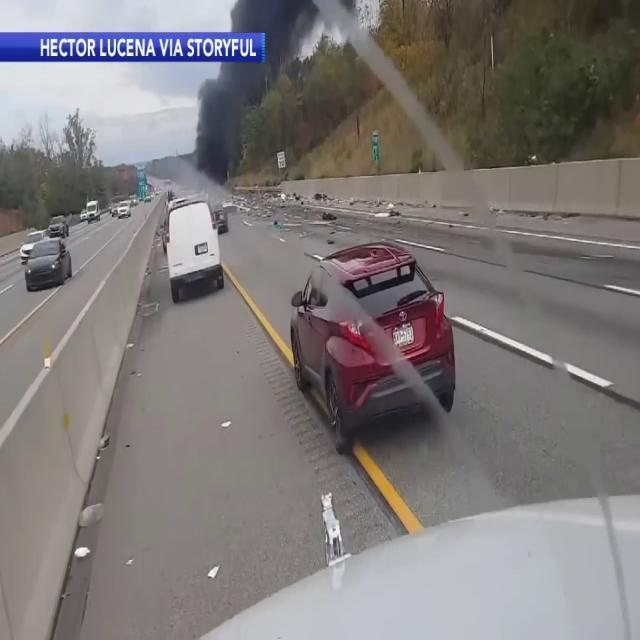Smoke: (187, 0, 365, 186)
